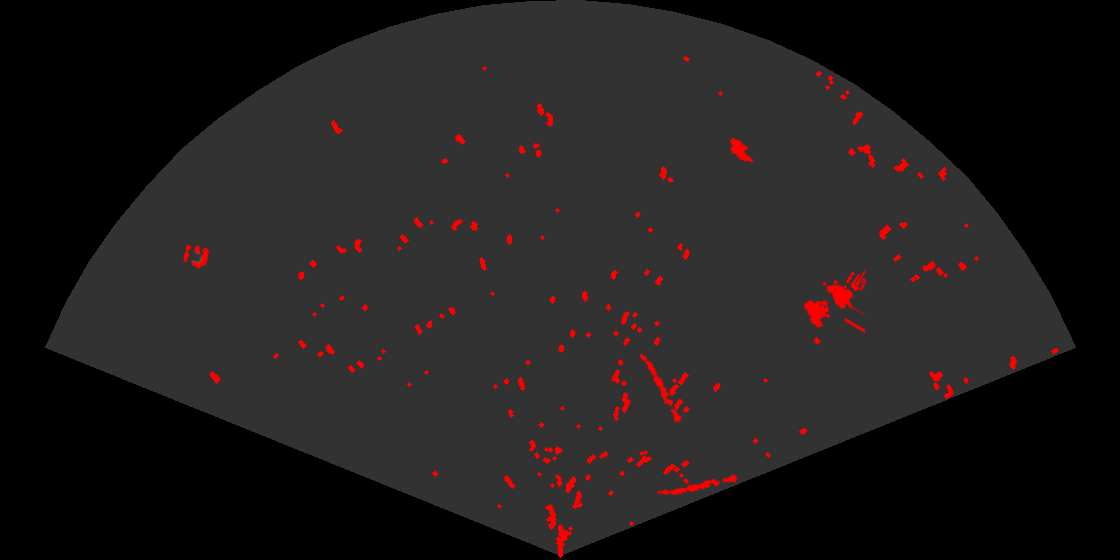AUV: (728, 136, 755, 164)
ball: (182, 243, 211, 270), (844, 270, 868, 293)
cage: (802, 268, 865, 335)
chain: (638, 352, 684, 426), (658, 472, 741, 497)
